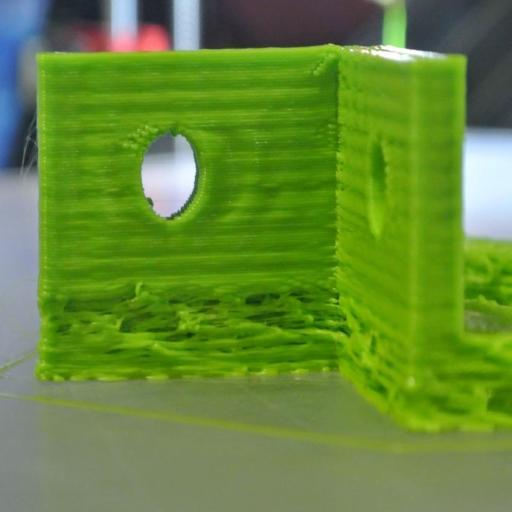cracks: (36, 279, 339, 384), (344, 292, 510, 432)
